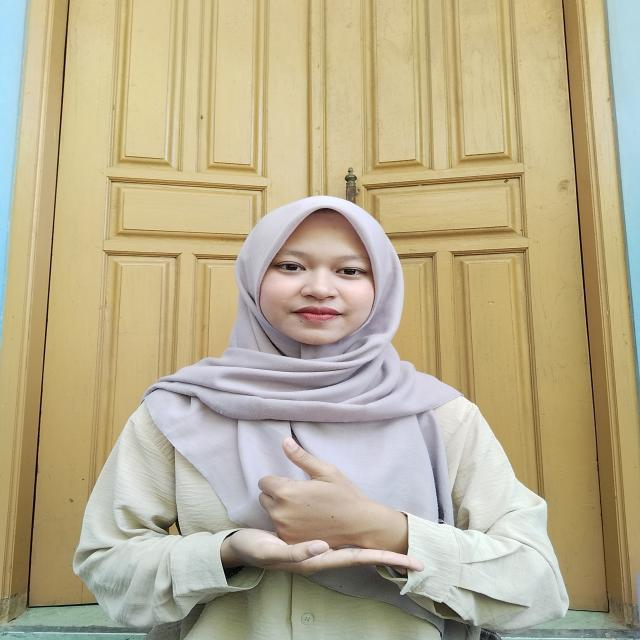cantik: (203, 440, 434, 586)
